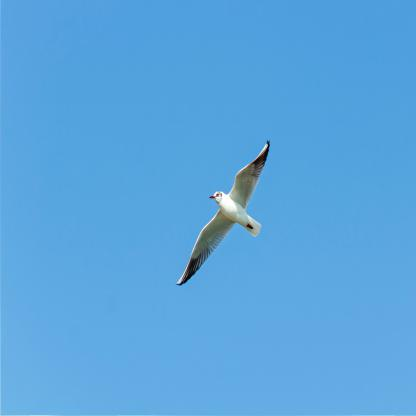bird: (177, 140, 270, 287)
